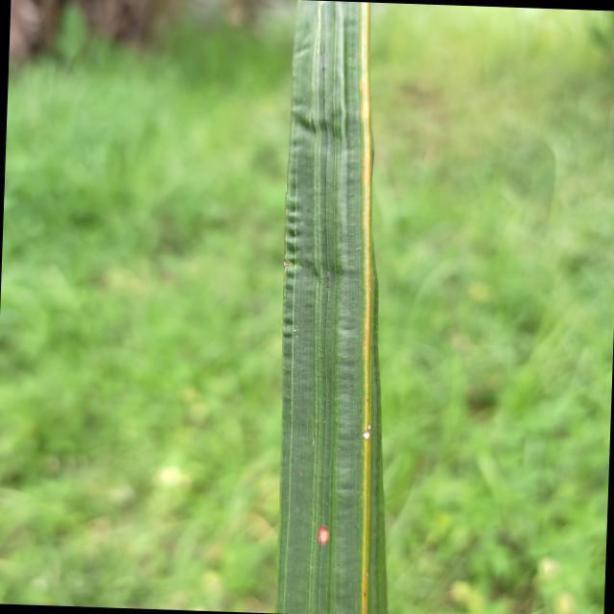Boron: (274, 3, 385, 614)
